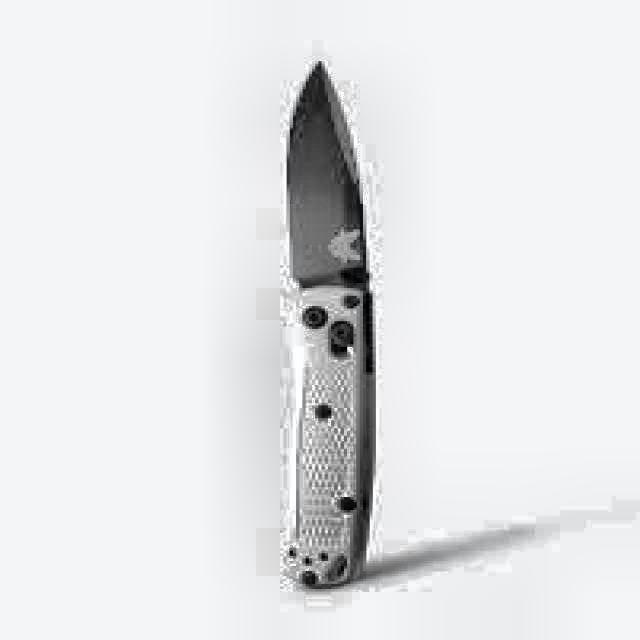knife: (278, 54, 378, 590)
